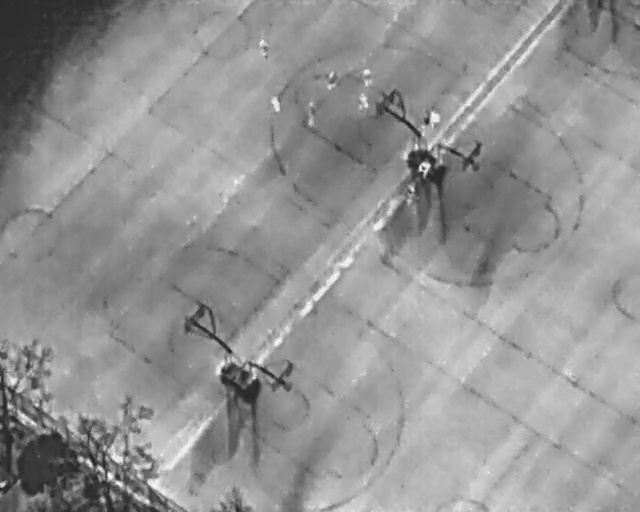Person: (413, 156, 435, 181), (258, 37, 272, 63), (268, 94, 283, 115), (305, 101, 317, 127), (360, 66, 374, 88), (428, 109, 442, 129), (357, 90, 370, 111), (326, 69, 338, 91)
